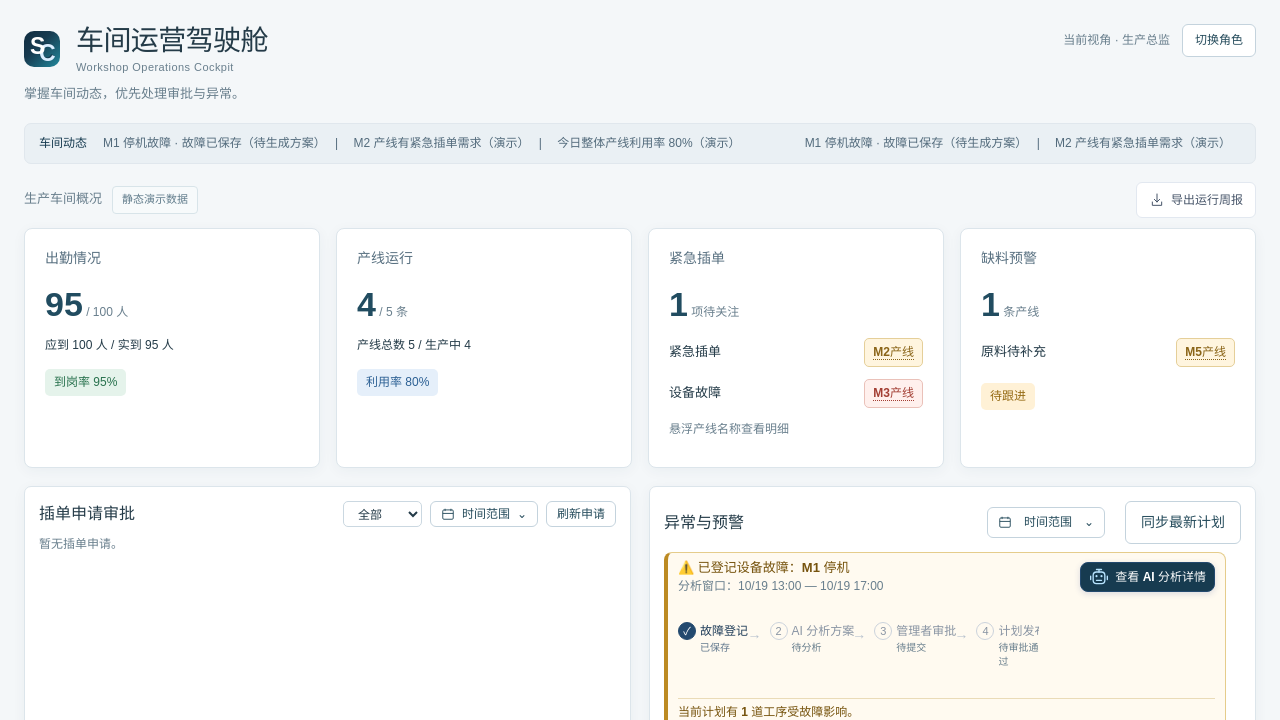
opens the same fault analysis in a read-only drawer without navigating or writing
Expected: the list named "故障处理流程" is shown, [678,622,1039,669]
Click the button "查看 AI 分析详情" at (1148, 577), box [1080,562,1215,592]
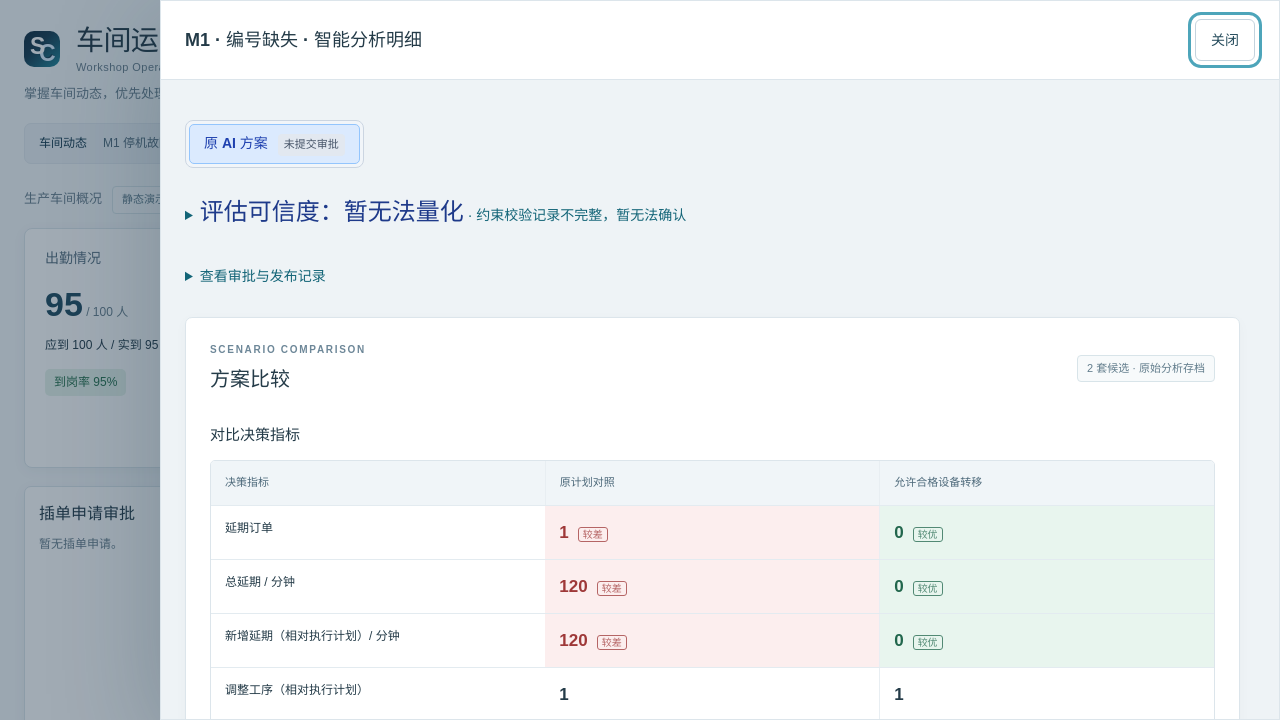
Click the button "关闭" at (1225, 40), box [1195,19,1255,61]
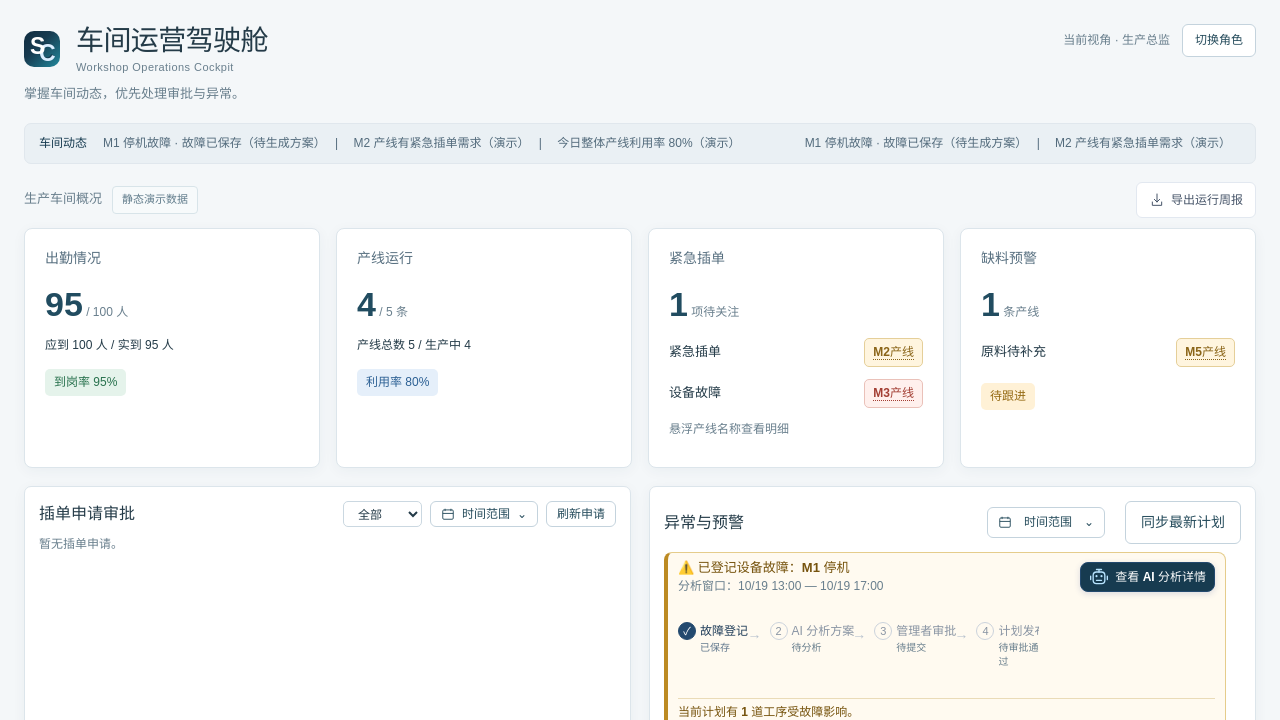
Now the dialog is gone
